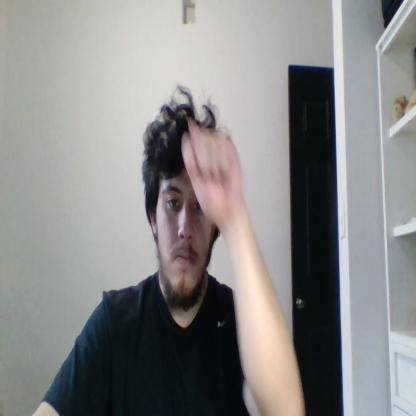T: (183, 115, 242, 213)
